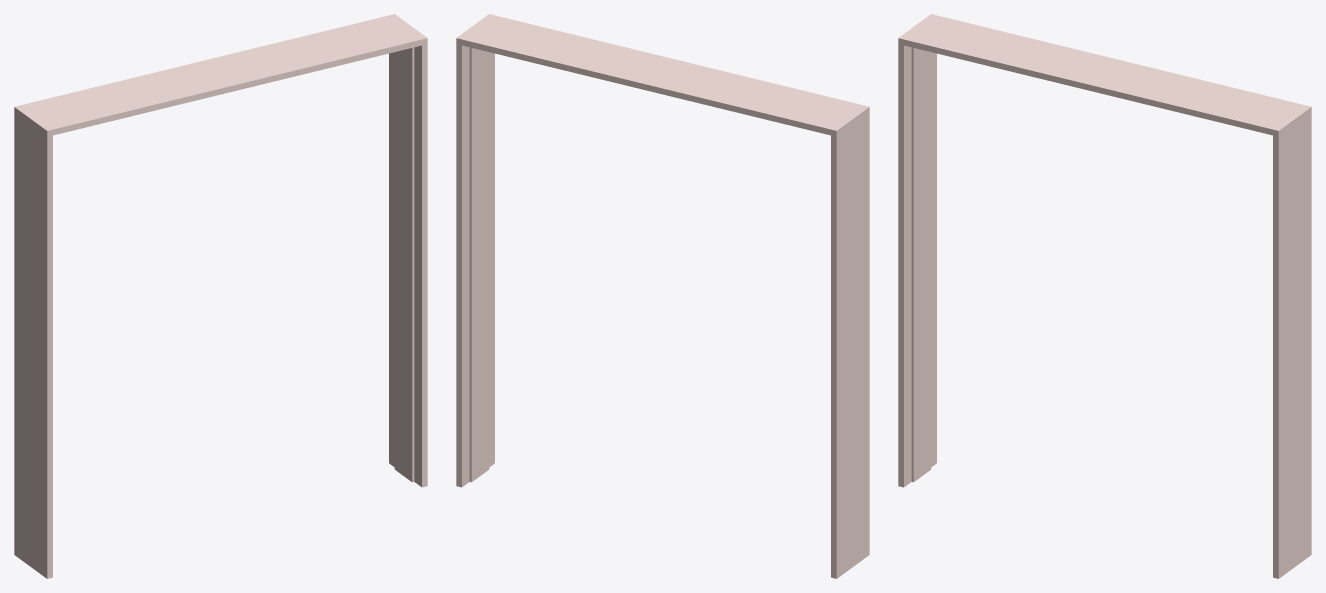
Rendered from DoorFrame2x2_25.gltf.
3 renders of one model, left to right at view 1: azimuth 30°, elevation 25°; view 2: azimuth 150°, elevation 25°; view 3: azimuth 330°, elevation 25°, orthographic.
Visible parts, largest first — view 1: DoorFrame2x2_25Shape; view 2: DoorFrame2x2_25Shape; view 3: DoorFrame2x2_25Shape.
Boxes of the visible parts, <box> form: DoorFrame2x2_25Shape: <box>14,14,427,578</box>; DoorFrame2x2_25Shape: <box>456,14,869,578</box>; DoorFrame2x2_25Shape: <box>898,14,1311,578</box>.
Size of the model in its own units: 200 by 225 by 30.
1 material, 1 textured.
